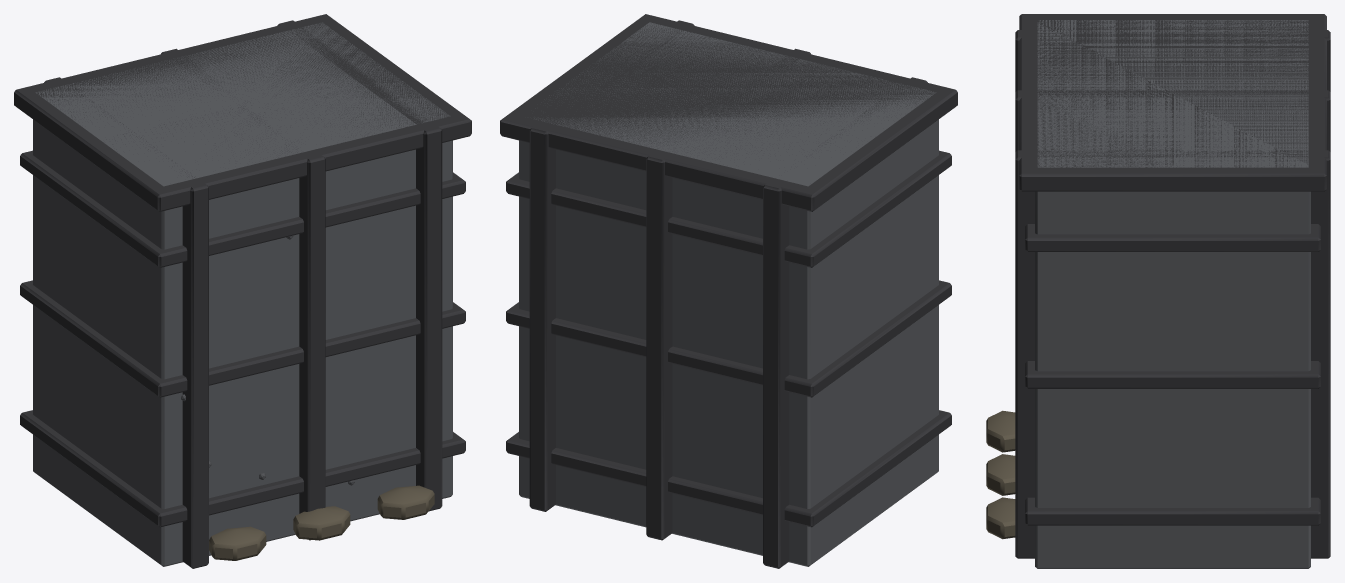
File: wall_steel_b.glb
3 renders of one model, left to right at view 1: azimuth 30°, elevation 25°; view 2: azimuth 150°, elevation 25°; view 3: azimuth 270°, elevation 25°, orthographic. The views are drawn at different scales.
Parts seen in each view (by area): view 1: WallSteelB; view 2: WallSteelB; view 3: WallSteelB.
Part boxes in pixels (<box>): WallSteelB: <box>14,14,471,568</box>; WallSteelB: <box>500,14,957,568</box>; WallSteelB: <box>986,14,1330,568</box>.
Size of the model in its own units: 3.8 by 4.4 by 3.43.
